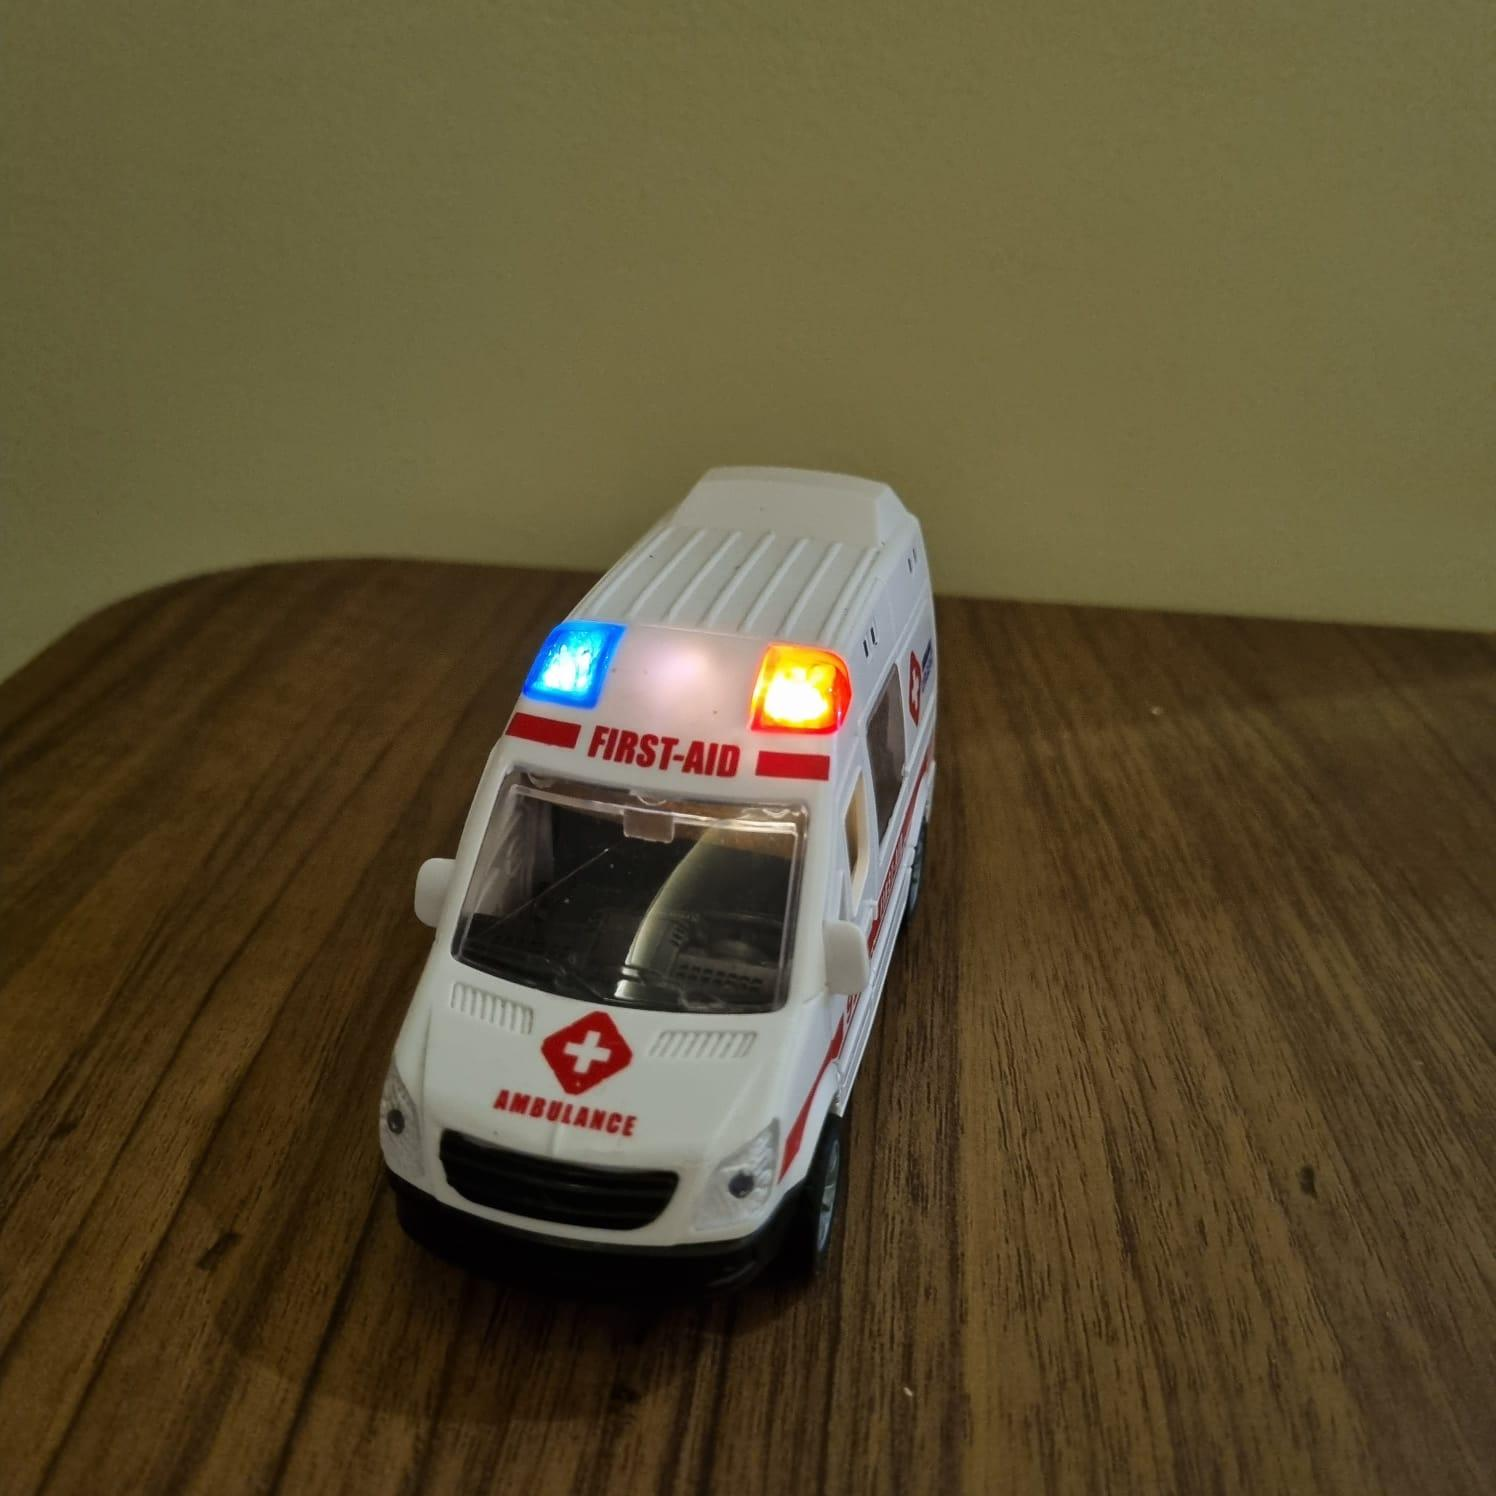ambulance_on: (378, 460, 948, 1293)
